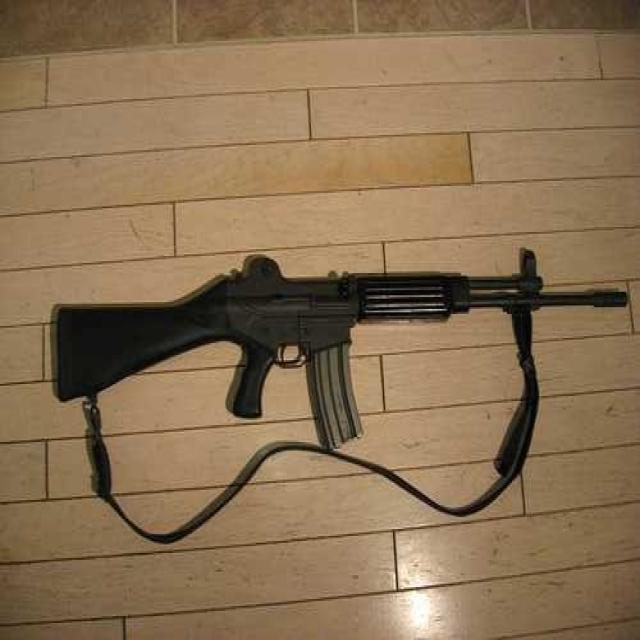Rifle: (51, 231, 637, 483)
